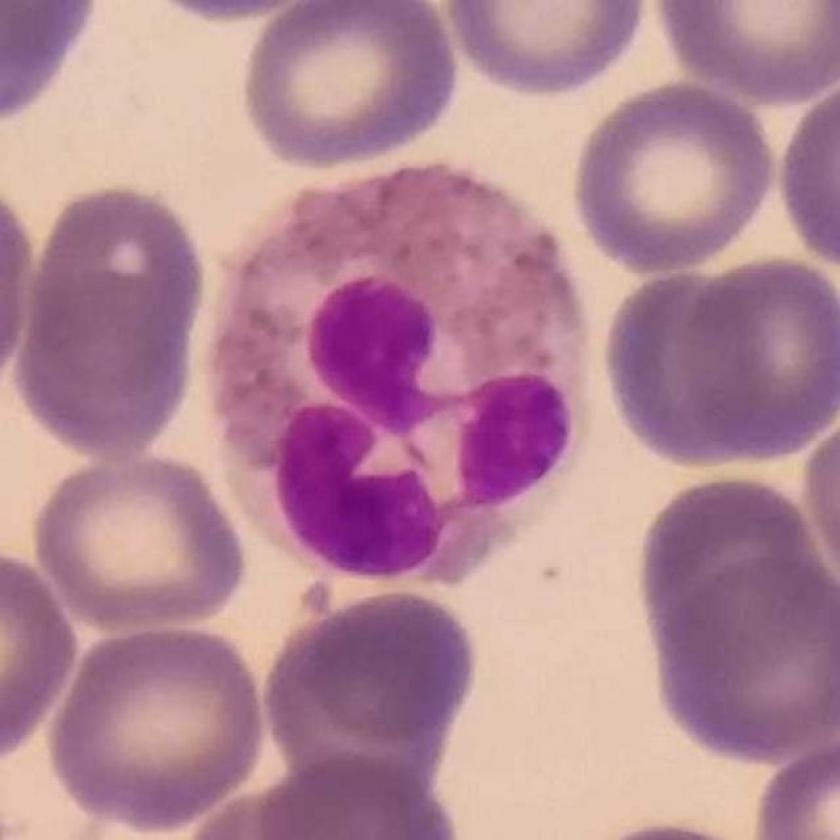eosinophil: (202, 168, 596, 590)
